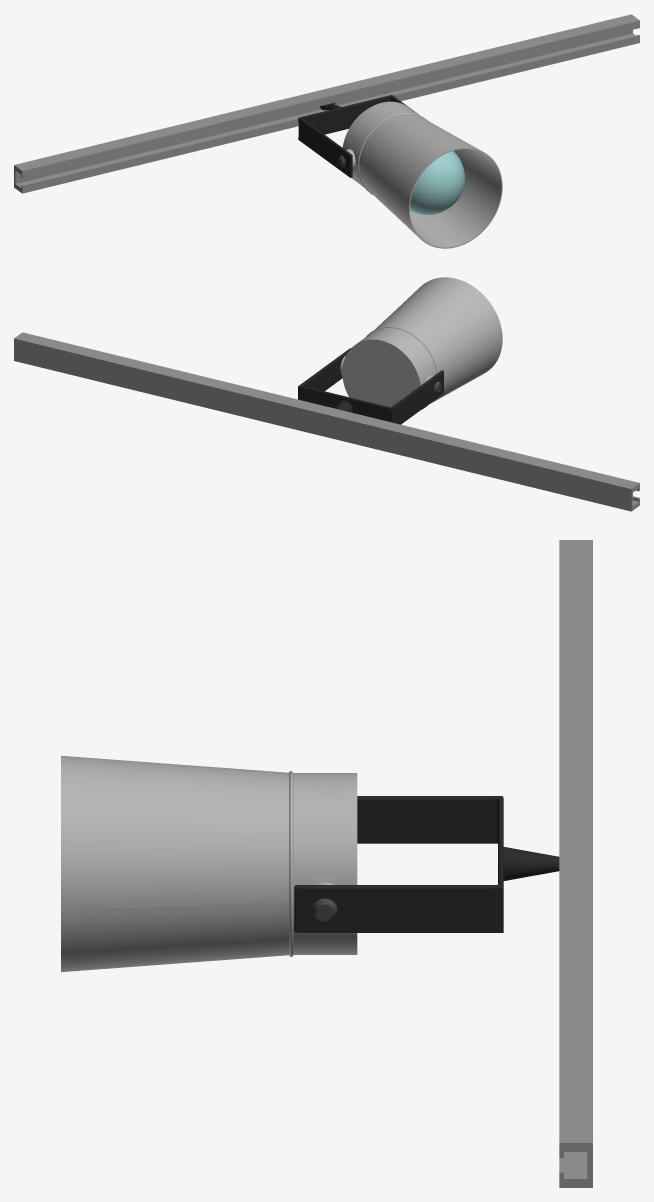
Rendered from RailLight.fbx.
The picture shows the model from 3 angles, top to bottom: view 1: azimuth 30°, elevation 25°; view 2: azimuth 150°, elevation 25°; view 3: azimuth 270°, elevation 25°; orthographic projection. The views are drawn at different scales.
Visible parts, largest first — view 1: Object_20, Object_14, Object_18, Object_21, Object_15; view 2: Object_20, Object_14, Object_15, Object_18; view 3: Object_14, Object_20, Object_18, Object_15, Object_19, Object_13.
Boxes of the visible parts, x1,y1,x2,y2 form: Object_20: [14, 14, 639, 193]; Object_14: [359, 114, 502, 248]; Object_18: [298, 95, 418, 177]; Object_21: [410, 151, 464, 214]; Object_15: [342, 101, 418, 187]; Object_20: [14, 332, 639, 511]; Object_14: [375, 277, 502, 404]; Object_15: [340, 327, 436, 407]; Object_18: [298, 348, 443, 424]; Object_14: [61, 755, 289, 972]; Object_20: [559, 540, 592, 1187]; Object_18: [294, 796, 503, 932]; Object_15: [293, 773, 357, 954]; Object_19: [503, 847, 559, 880]; Object_13: [289, 771, 293, 956].
Bounding box in the file's own units: 128 × 19.44 × 47.8.
